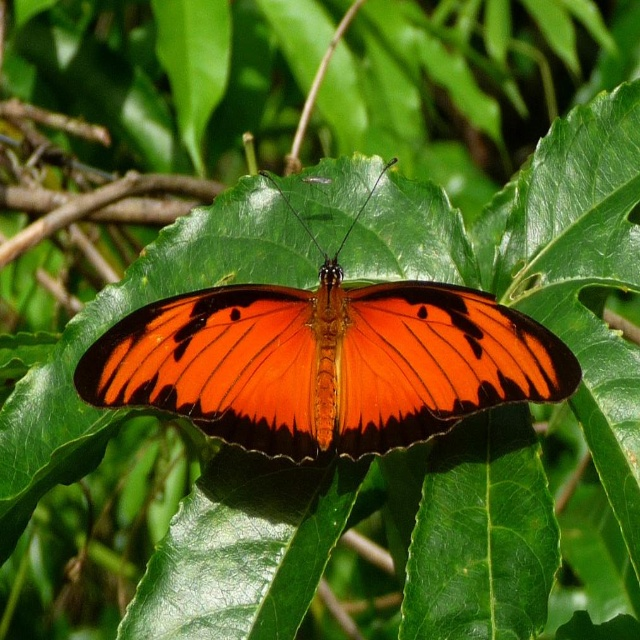Butterfly: (89, 174, 566, 488)
